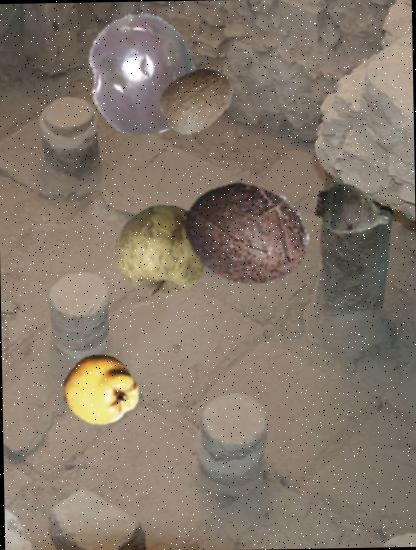Apple: (113, 201, 212, 299)
Beetroot: (314, 170, 394, 251)
Cocos: (180, 170, 310, 298)
Kiwi: (156, 60, 235, 140)
Passion: (78, 9, 206, 137)
Quince: (62, 352, 140, 430)
